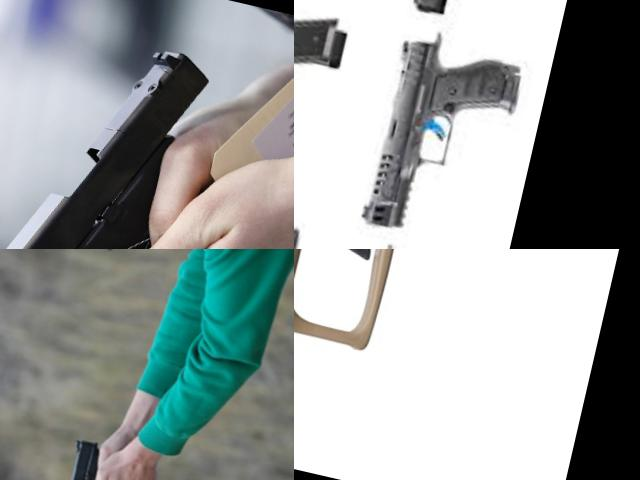handgun: (294, 249, 640, 480), (0, 5, 262, 249), (356, 19, 534, 249), (294, 0, 382, 211), (400, 0, 546, 71), (294, 0, 375, 50), (294, 194, 366, 249), (52, 429, 129, 480), (337, 231, 484, 249)
